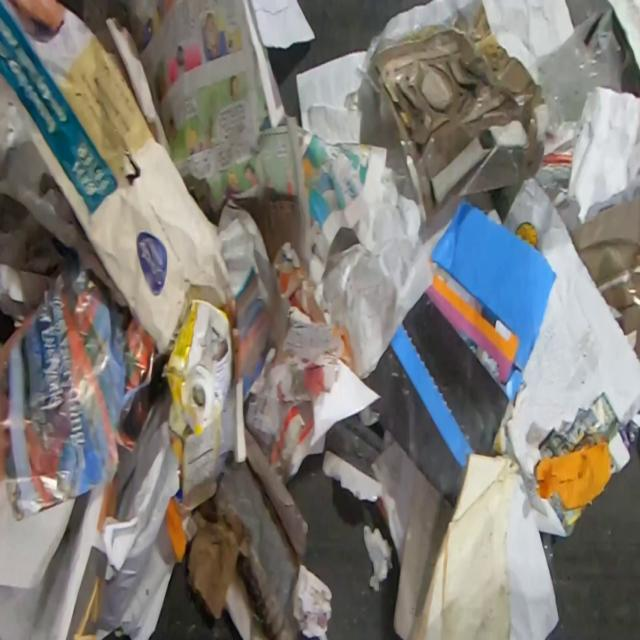cardboard: (160, 298, 234, 511), (320, 404, 386, 505), (534, 432, 613, 511)
rigid_plastic: (430, 195, 557, 407)
soft_plastic: (536, 7, 623, 131)
